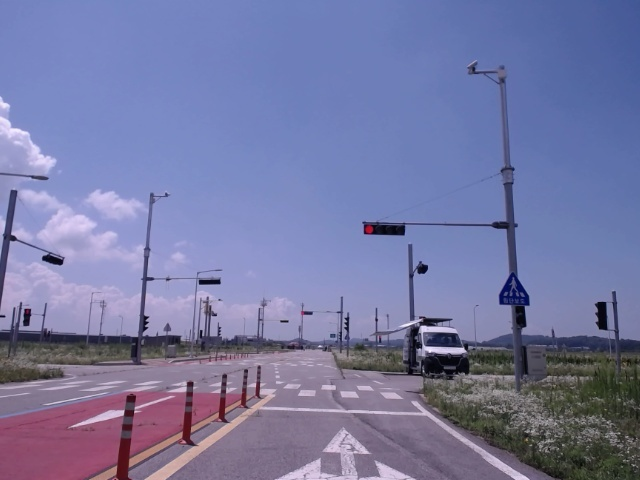red_4: (363, 224, 405, 236)
